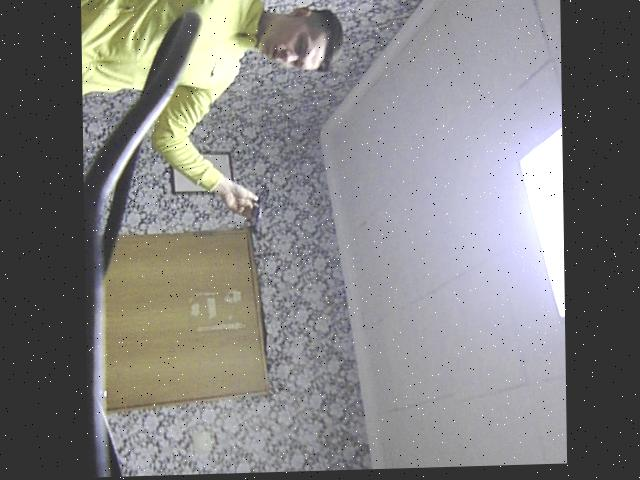drone: (237, 177, 278, 248)
